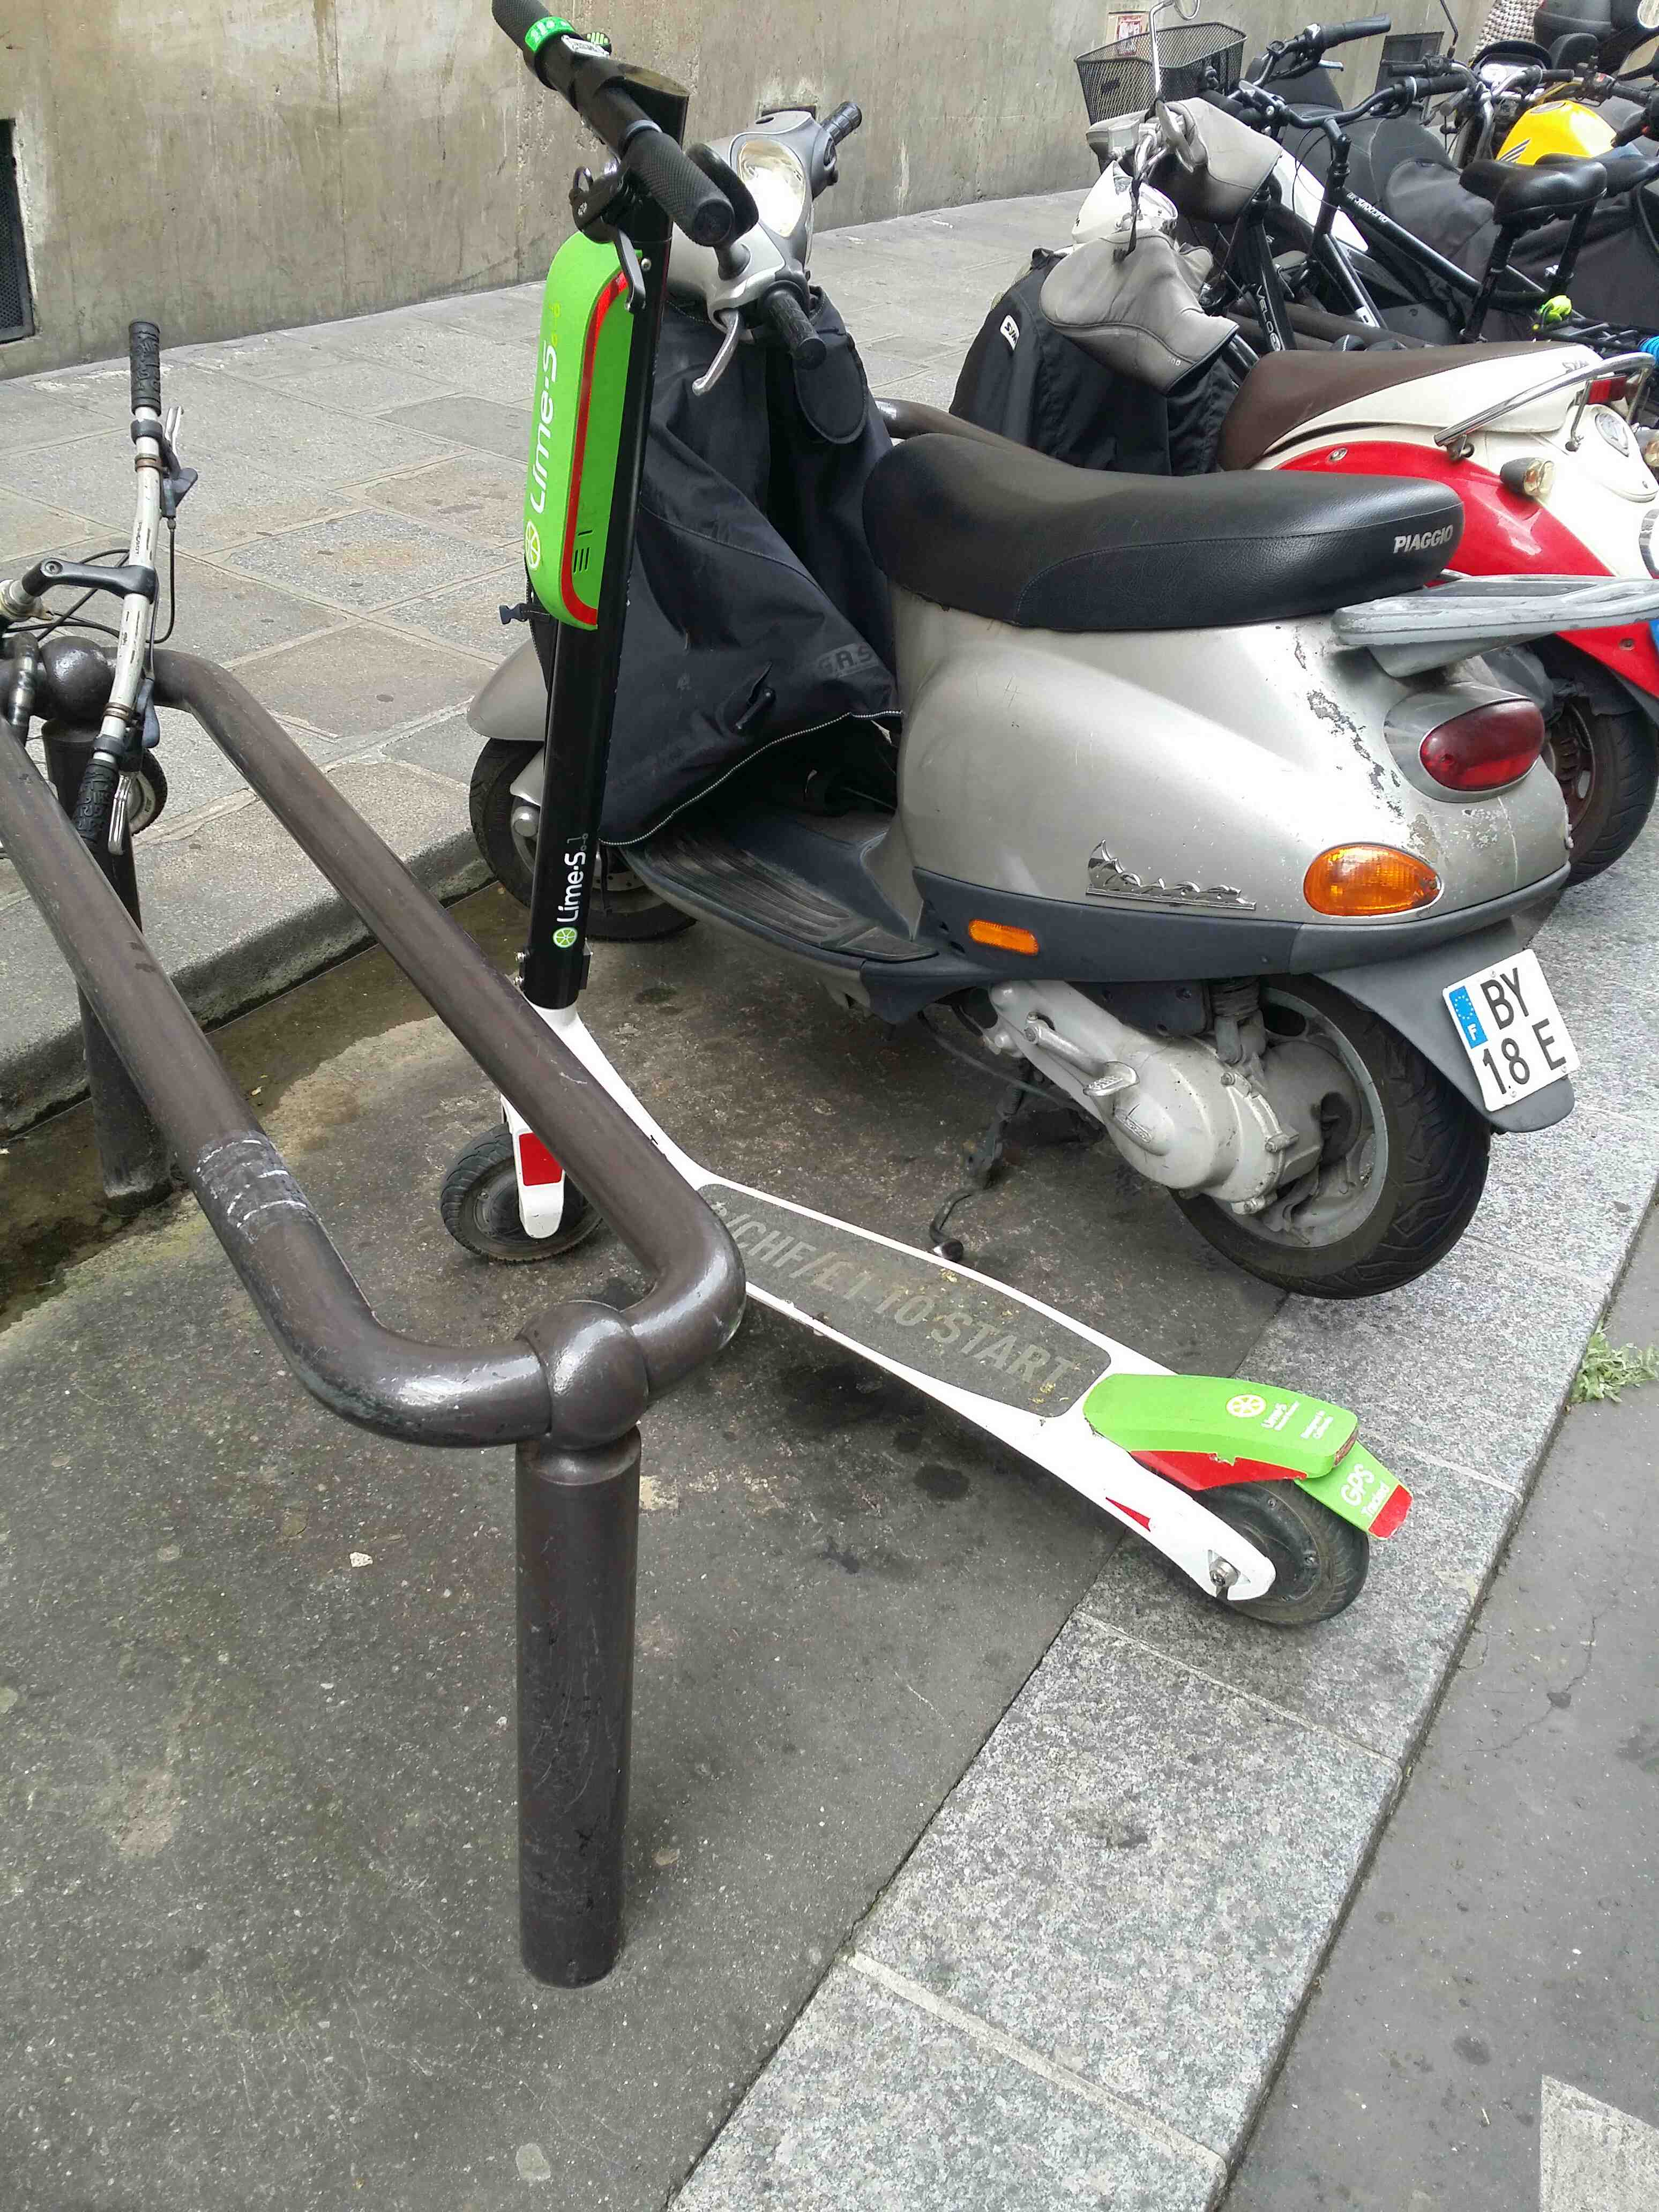scooter: (392, 5, 1422, 1651)
